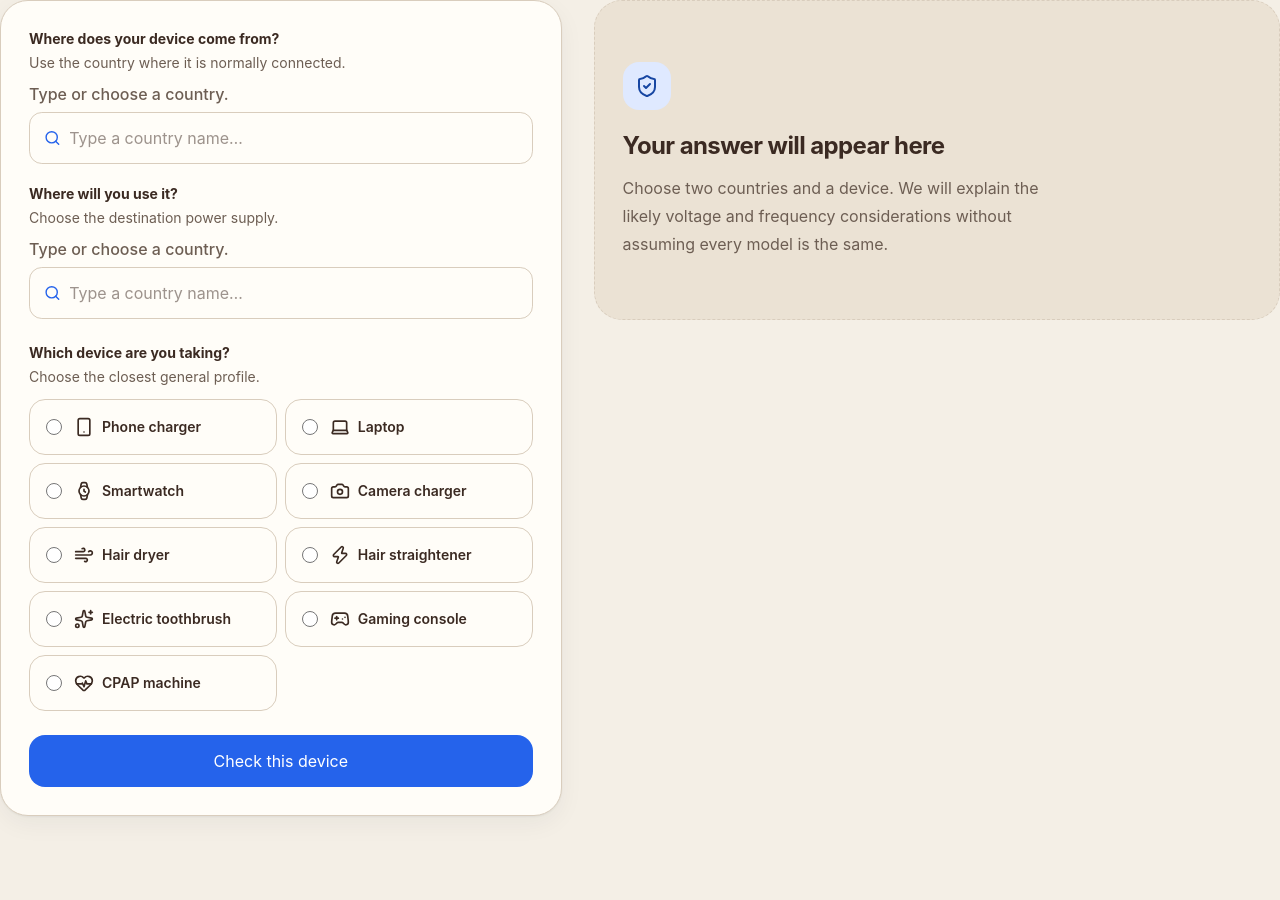
Test: device checker › identifies every missing field on a blank submission
Click the button "Check this device".
click(281, 761)  # box [29,735,533,787]
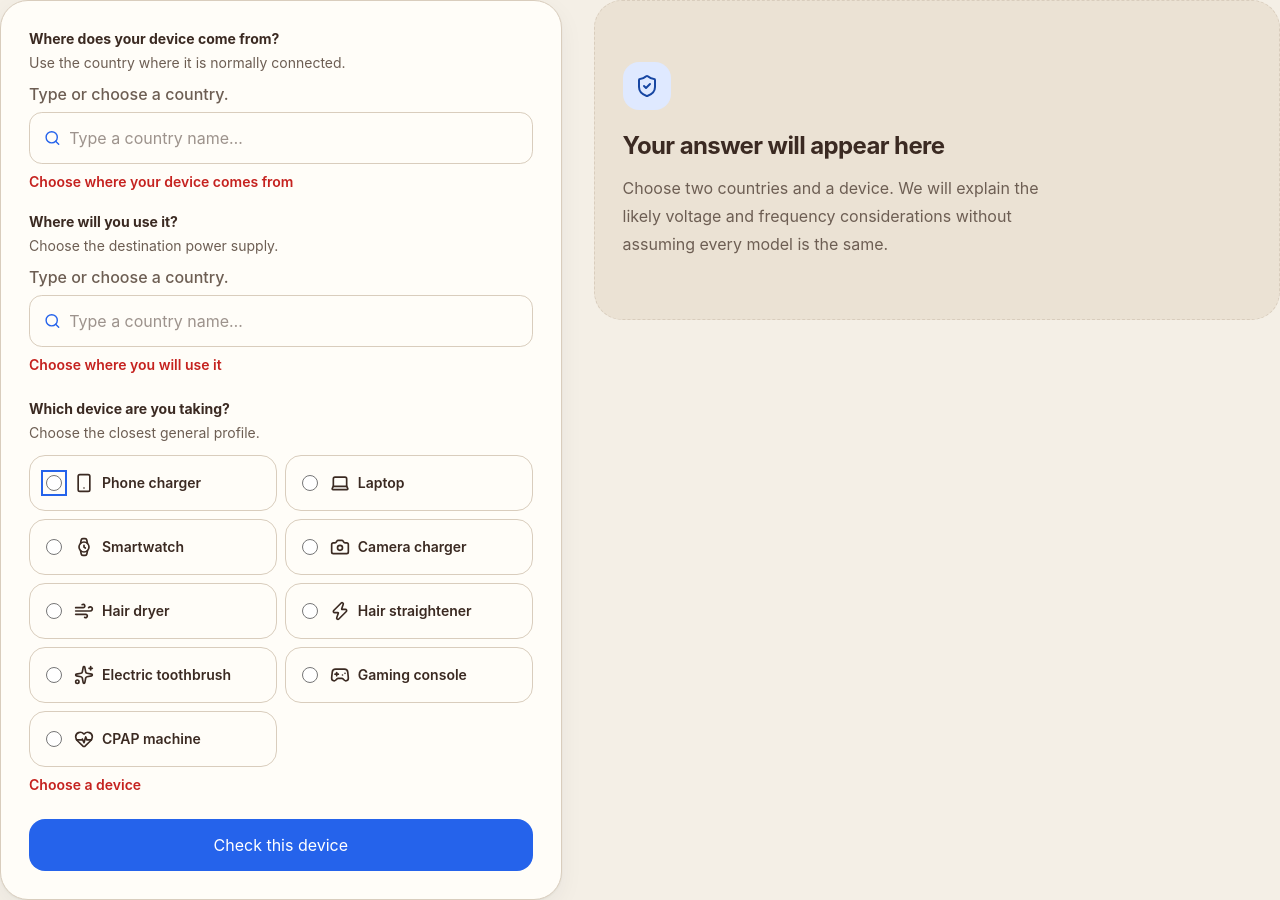
Check: the text "Choose where your device comes from" is shown, box [29,173,294,190]
Check: the text "Choose where you will use it" is shown, box [29,356,222,373]
Check: the text "Choose a device" is shown, box [29,776,141,793]
